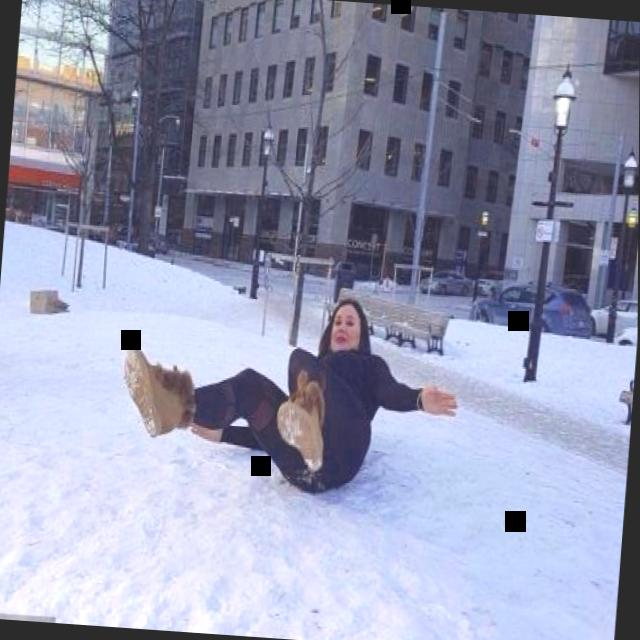Fall-Detected: (102, 255, 461, 519)
